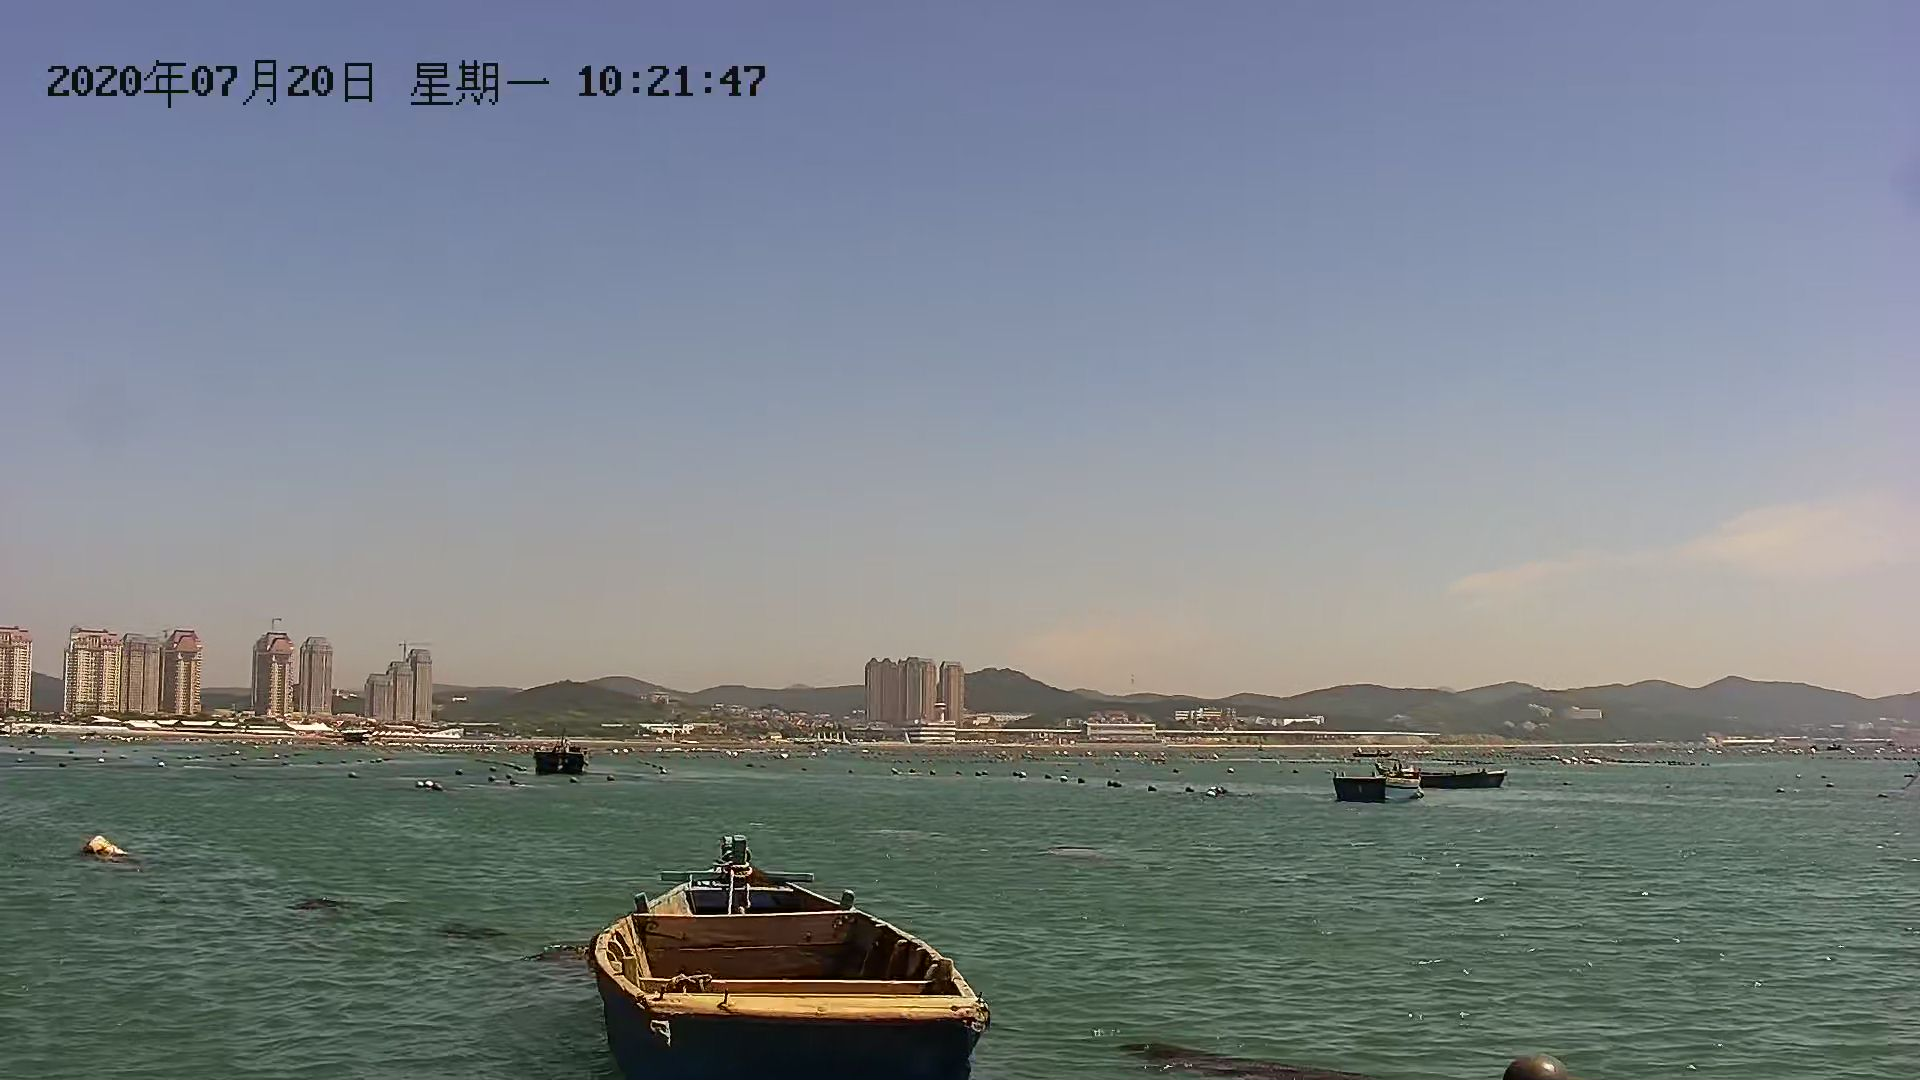boat: (582, 832, 993, 1069), (1328, 769, 1425, 811), (526, 727, 589, 779), (1391, 764, 1511, 791)
rubbish: (78, 832, 131, 858)
